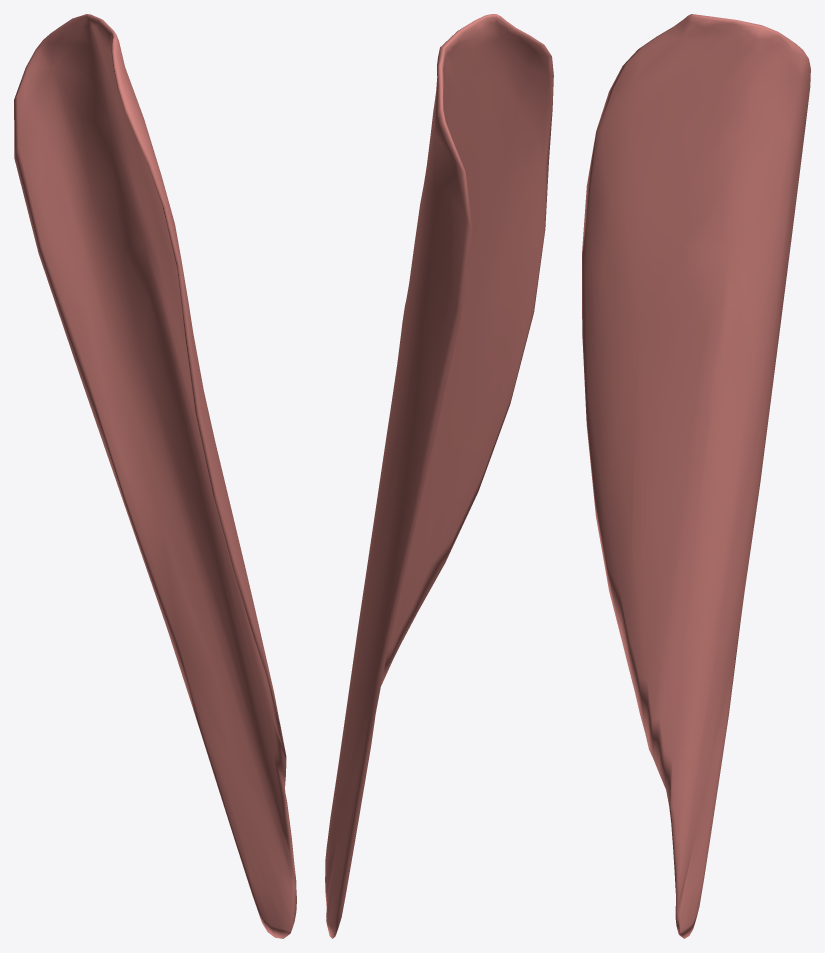
3 views of the same model, side by side, from view 1: azimuth 30°, elevation 25°; view 2: azimuth 150°, elevation 25°; view 3: azimuth 270°, elevation 25° (orthographic). The views are drawn at different scales.
Parts seen in each view (by area): view 1: ZA_b4b37e9e9648e8b8; view 2: ZA_b4b37e9e9648e8b8; view 3: ZA_b4b37e9e9648e8b8.
Boxes of the visible parts, x1,y1,x2,y2 form: ZA_b4b37e9e9648e8b8: (14, 14, 296, 938); ZA_b4b37e9e9648e8b8: (325, 14, 553, 938); ZA_b4b37e9e9648e8b8: (582, 14, 810, 938).
Size of the model in its own units: 0.0192 by 0.0809 by 0.0197.
